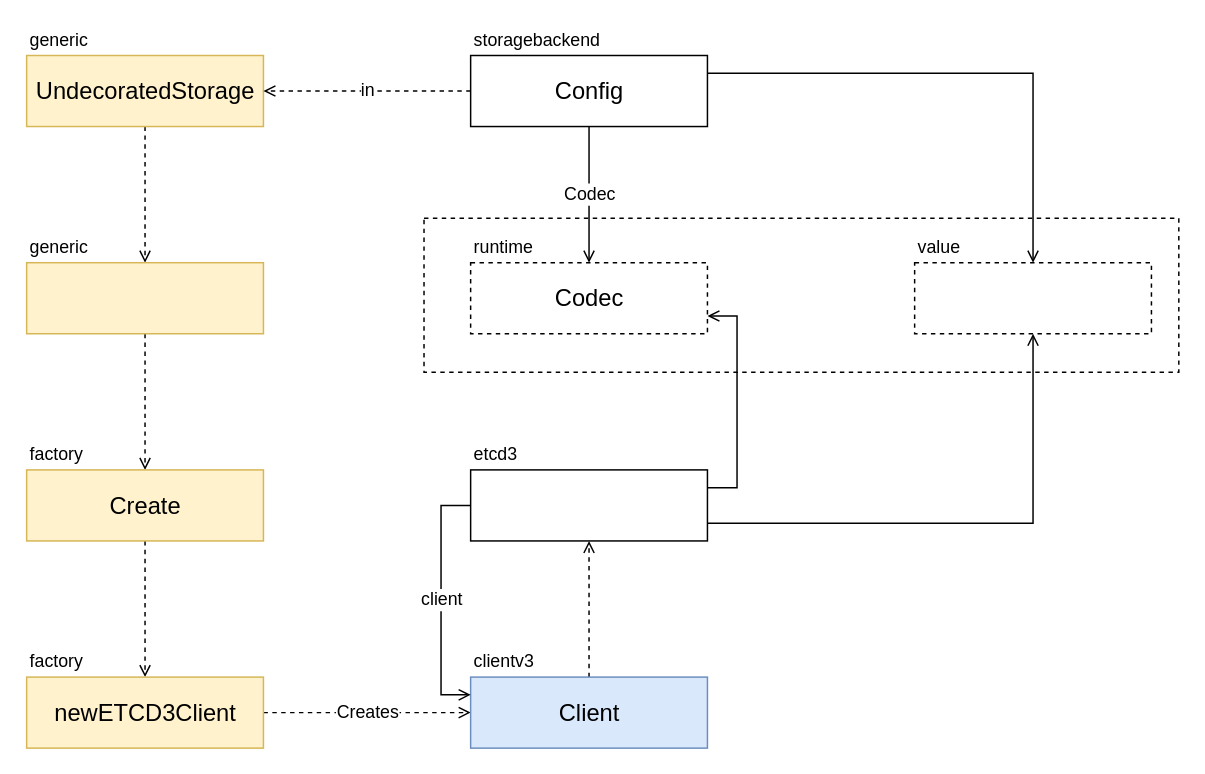
Image size: 1205x774. Some labels were removed from this diagram. Here are the shapes that lost their labels. From the top down, the centre of each, then its label:
point 144,297: NewRawStorage
point 1032,297: Transformer
point 588,504: store
